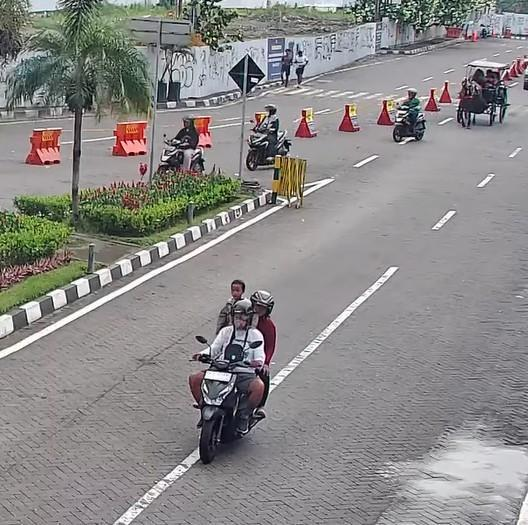Helmet: (251, 290, 274, 314), (232, 298, 252, 317), (265, 104, 276, 114), (407, 87, 417, 95), (182, 115, 192, 123)
Number Plate: (205, 370, 231, 382)
Rearview Mirror: (195, 335, 207, 344), (249, 341, 262, 349), (163, 133, 166, 138)
